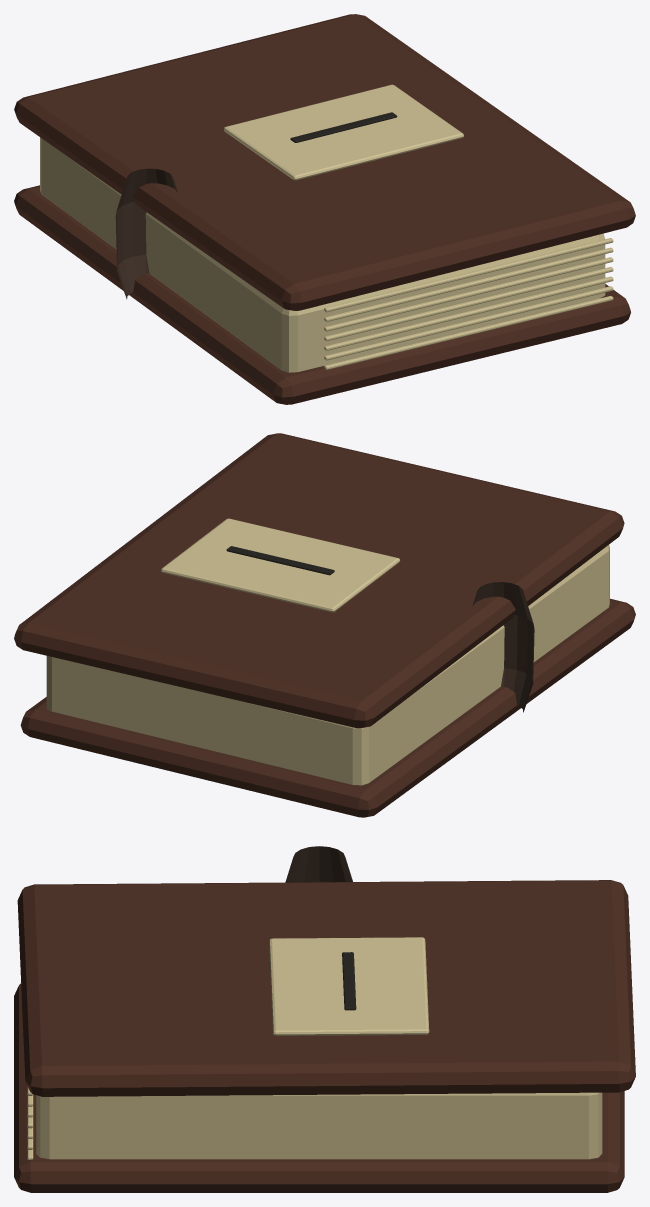
The model's file is supply-ledger.glb.
The picture shows the model from 3 angles, top to bottom: view 1: azimuth 30°, elevation 25°; view 2: azimuth 150°, elevation 25°; view 3: azimuth 270°, elevation 25°; orthographic projection. The views are drawn at different scales.
Parts seen in each view (by area): view 1: LedgerUpperCover, LedgerPages, LedgerLowerCover, LedgerLabel, LedgerSpine, LedgerPageLayer_2, LedgerPageLayer_5, LedgerPageLayer_1, LedgerPageLayer_4, LedgerPageLayer_3, LedgerPageLayer_6, LedgerPageLayer_0 (+1 smaller); view 2: LedgerUpperCover, LedgerPages, LedgerLowerCover, LedgerLabel, LedgerSpine, LedgerLabelInk; view 3: LedgerUpperCover, LedgerPages, LedgerLowerCover, LedgerLabel, LedgerSpine, LedgerLabelInk.
Boxes of the visible parts, <box> form: LedgerUpperCover: <box>14,14,635,310</box>; LedgerPages: <box>40,137,605,372</box>; LedgerLowerCover: <box>14,185,630,404</box>; LedgerLabel: <box>223,84,463,180</box>; LedgerSpine: <box>115,168,177,299</box>; LedgerPageLayer_2: <box>324,276,613,350</box>; LedgerPageLayer_5: <box>324,247,613,321</box>; LedgerPageLayer_1: <box>324,286,613,360</box>; LedgerPageLayer_4: <box>324,257,613,331</box>; LedgerPageLayer_3: <box>324,267,613,341</box>; LedgerPageLayer_6: <box>324,238,613,312</box>; LedgerPageLayer_0: <box>324,296,613,369</box>; LedgerUpperCover: <box>14,433,624,728</box>; LedgerPages: <box>46,545,609,785</box>; LedgerLowerCover: <box>20,598,635,817</box>; LedgerLabel: <box>161,518,399,612</box>; LedgerSpine: <box>472,582,534,712</box>; LedgerLabelInk: <box>226,546,334,575</box>; LedgerUpperCover: <box>17,880,635,1096</box>; LedgerPages: <box>36,1092,602,1159</box>; LedgerLowerCover: <box>14,983,624,1192</box>; LedgerLabel: <box>269,937,429,1035</box>; LedgerSpine: <box>285,846,352,882</box>; LedgerLabelInk: <box>342,952,356,1010</box>.
Bounding box in the file's own units: 0.6789 × 0.2225 × 0.8351.
